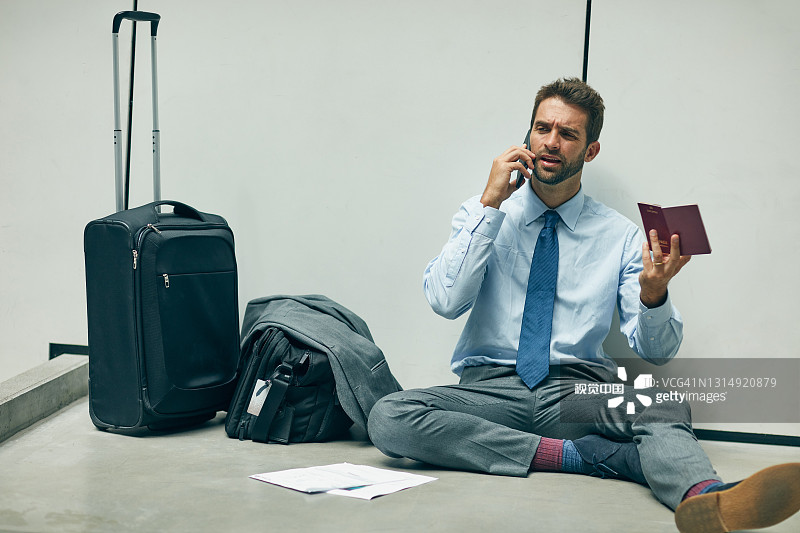calling: (476, 122, 540, 214)
no-phone: (626, 193, 718, 315)
